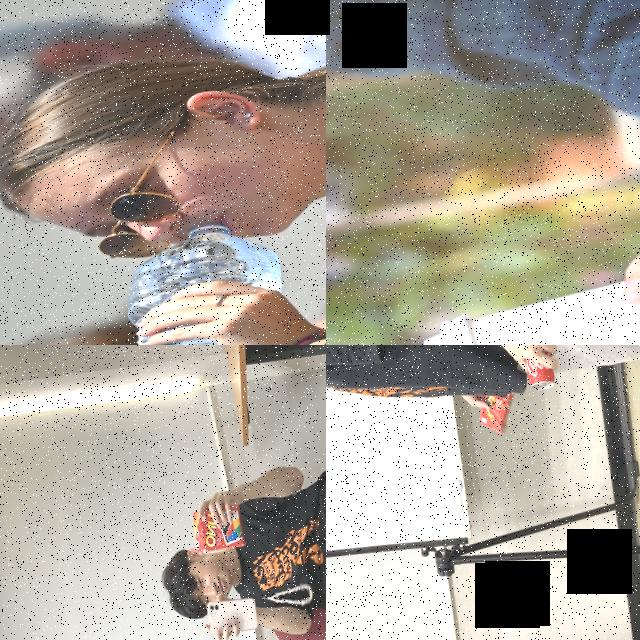bottle: (95, 212, 315, 345)
can: (514, 345, 560, 394)
cup: (416, 254, 640, 345)
